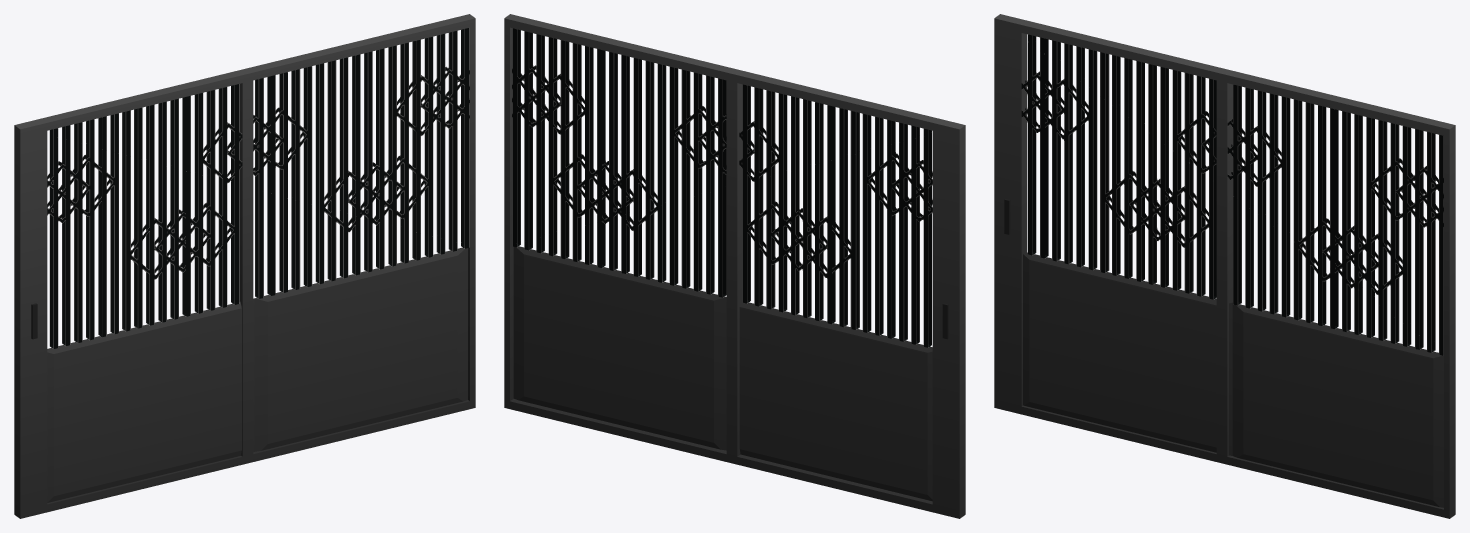
File: PintuGerbang.fbx
The picture shows the model from 3 angles, left to right: view 1: azimuth 30°, elevation 25°; view 2: azimuth 150°, elevation 25°; view 3: azimuth 330°, elevation 25°; orthographic projection.
Parts seen in each view (by area): view 1: PintuGerabang_LOD0; view 2: PintuGerabang_LOD0; view 3: PintuGerabang_LOD0.
Boxes of the visible parts, box(x1,y1,x2,y2) form: PintuGerabang_LOD0: box(14, 14, 475, 518); PintuGerabang_LOD0: box(504, 14, 965, 518); PintuGerabang_LOD0: box(994, 14, 1455, 518).
Size of what is drawn, in the model's own units: 499 by 408 by 15.7.
